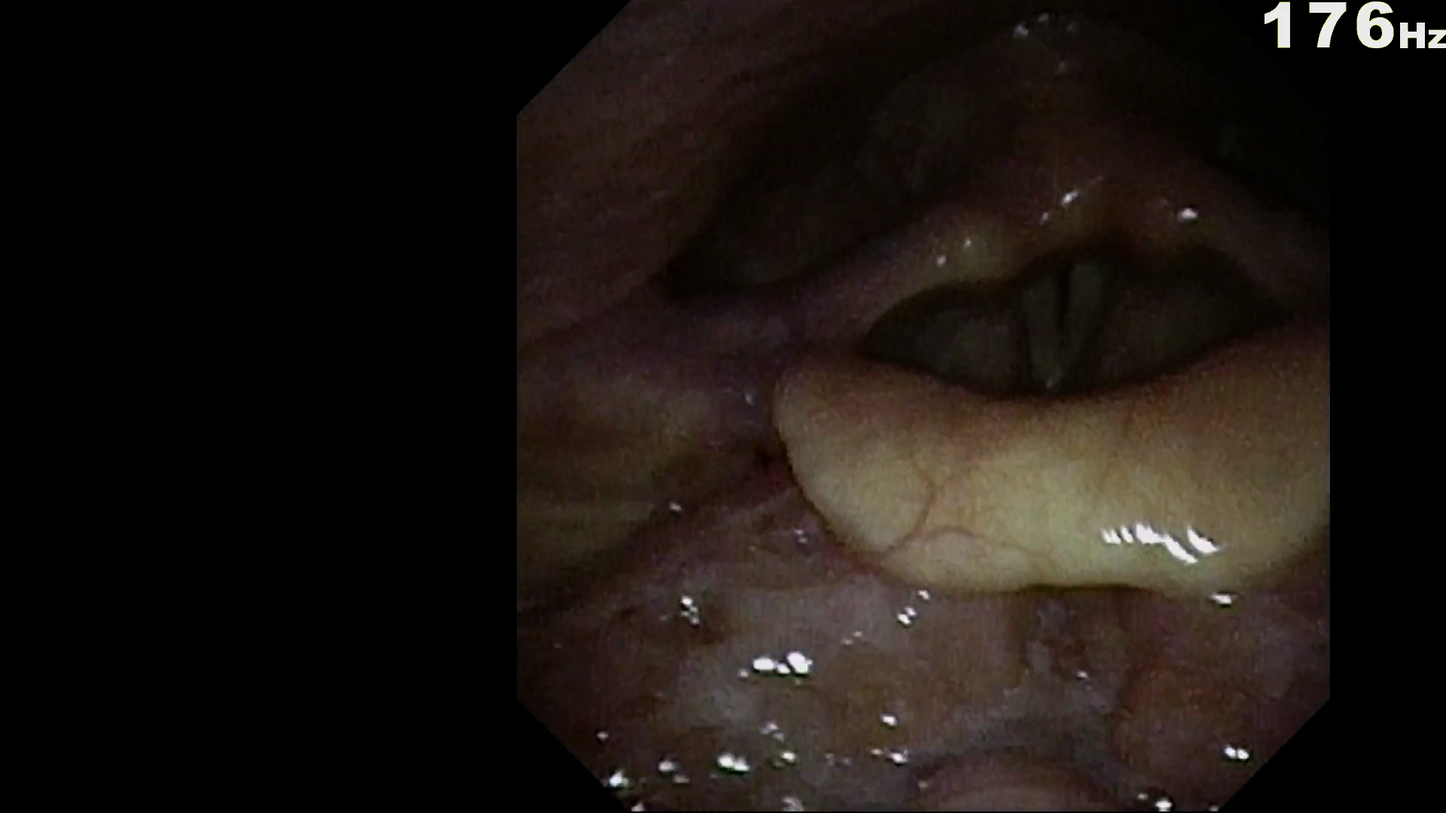epiglottis: (765, 334, 1312, 597)
trachea: (992, 254, 1139, 408)
